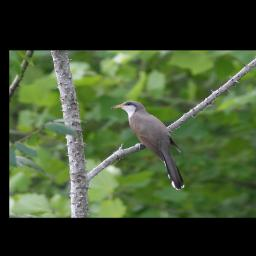Cuckoo: (111, 99, 187, 191)
